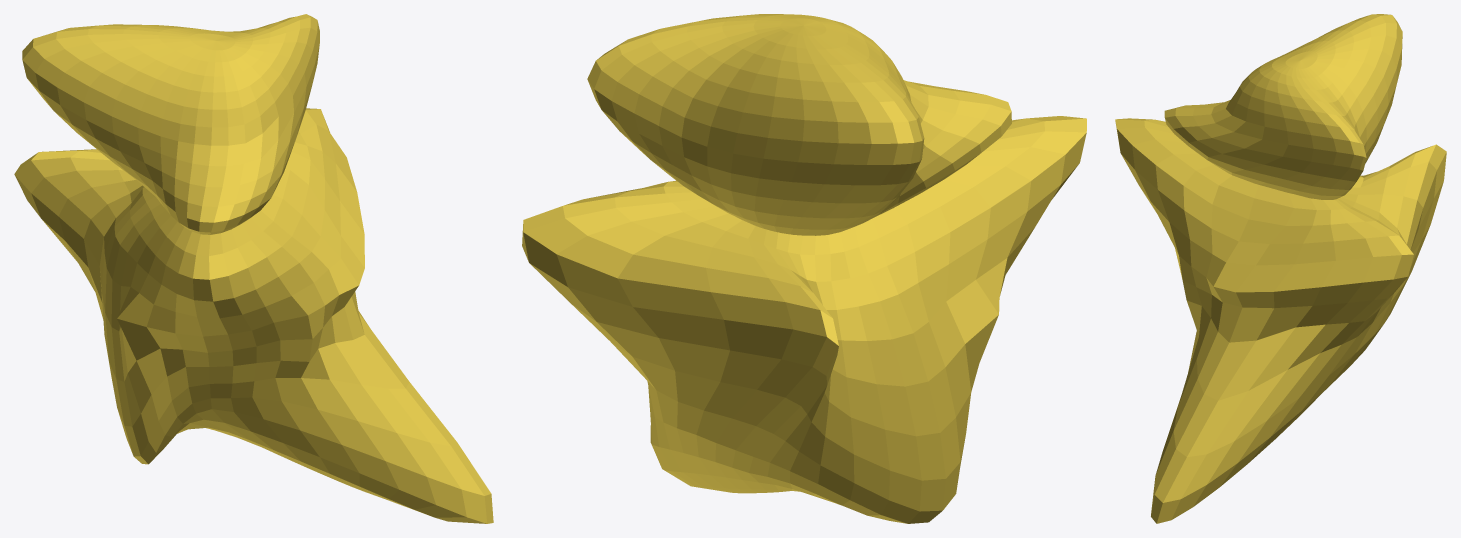
The model's file is kitune_y2.glb.
3 renders of one model, left to right at view 1: azimuth 30°, elevation 25°; view 2: azimuth 150°, elevation 25°; view 3: azimuth 270°, elevation 25°, orthographic. The views are drawn at different scales.
Visible parts, largest first — view 1: kitsune; view 2: kitsune; view 3: kitsune.
Part boxes in pixels (left/top/right/bottom): kitsune: left=14, top=14, right=493, bottom=523; kitsune: left=522, top=14, right=1086, bottom=523; kitsune: left=1115, top=14, right=1446, bottom=523.
Size of the model in its own units: 3.11 by 4.18 by 3.22.
